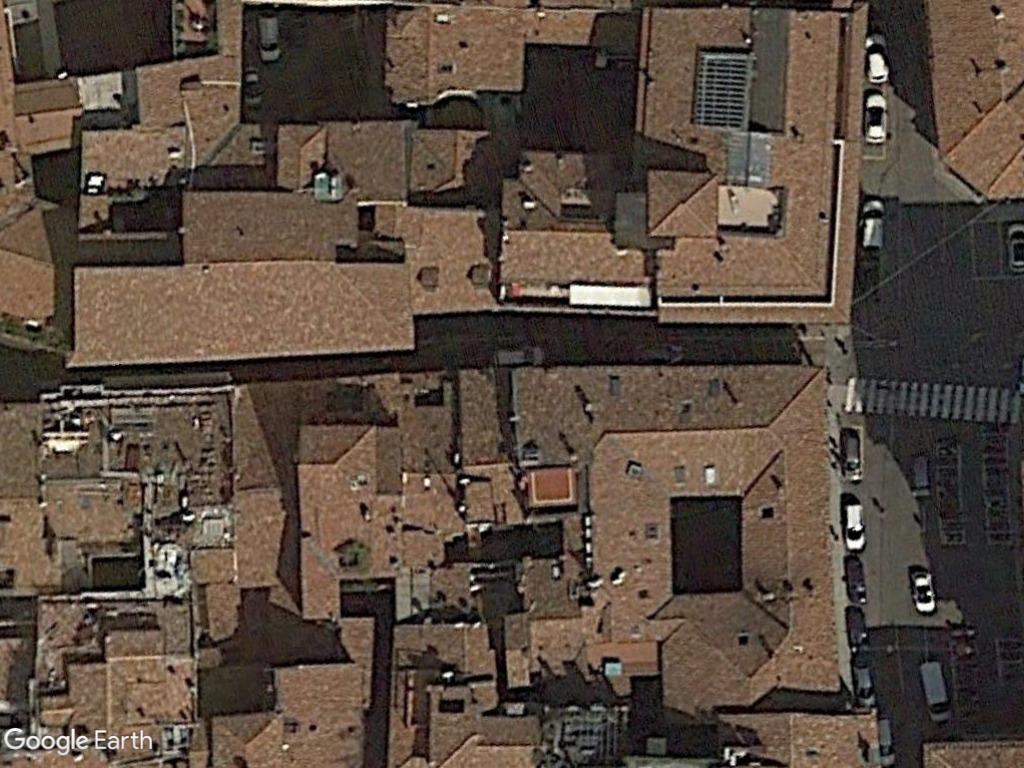car: (834, 424, 868, 488), (857, 196, 890, 258), (861, 31, 894, 87), (862, 89, 891, 147), (839, 499, 869, 554), (907, 566, 939, 617), (849, 659, 880, 709), (906, 452, 935, 502)
van: (914, 659, 955, 728)
